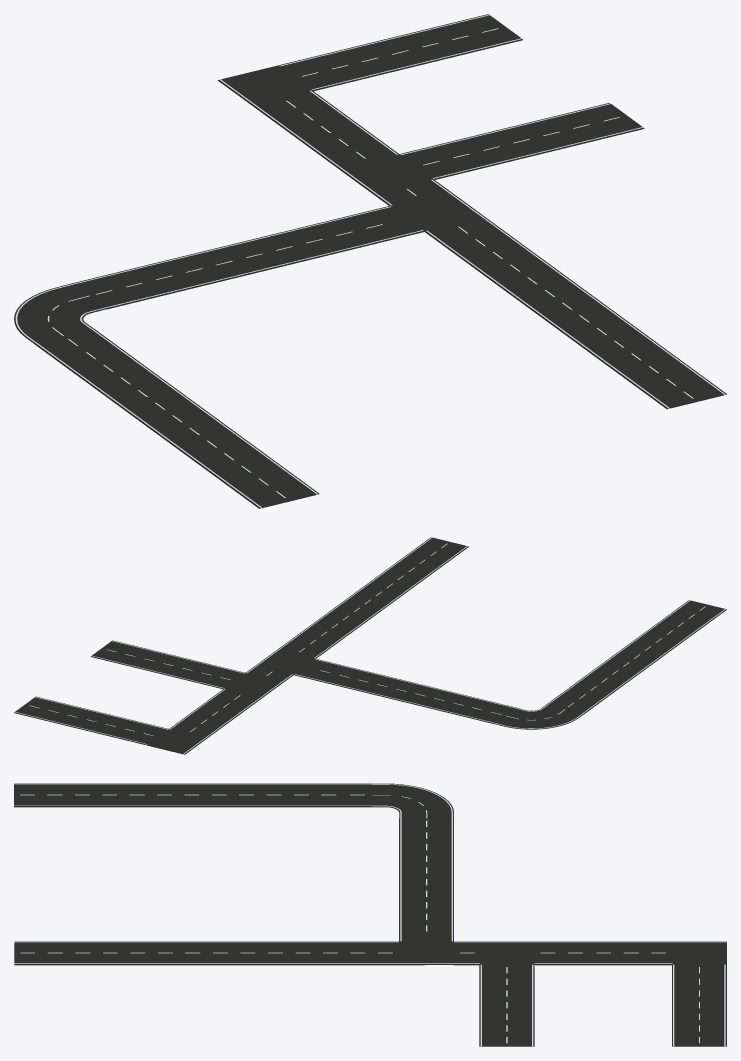
The model's file is road_assembled.fbx.
3 views of the same model, one above another, from view 1: azimuth 30°, elevation 25°; view 2: azimuth 150°, elevation 25°; view 3: azimuth 270°, elevation 25° (orthographic). The views are drawn at different scales.
Parts seen in each view (by area): view 1: Plane.075; view 2: Plane.075; view 3: Plane.075.
Part boxes in pixels (bbox=[...]): Plane.075: bbox=[14, 14, 726, 508]; Plane.075: bbox=[14, 537, 726, 754]; Plane.075: bbox=[14, 783, 726, 1046].
Size of the model in its own units: 45.18 by 0.0541 by 51.81.
Materials: 3 (3 with a texture image).
